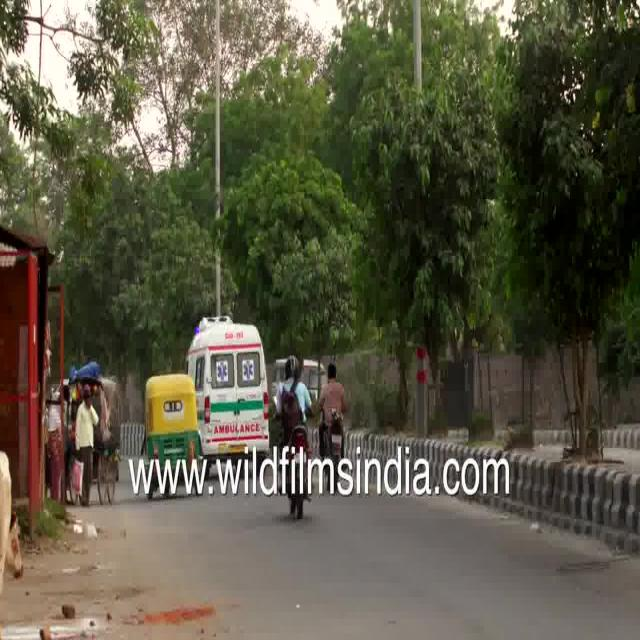ambulance: (188, 312, 285, 450)
